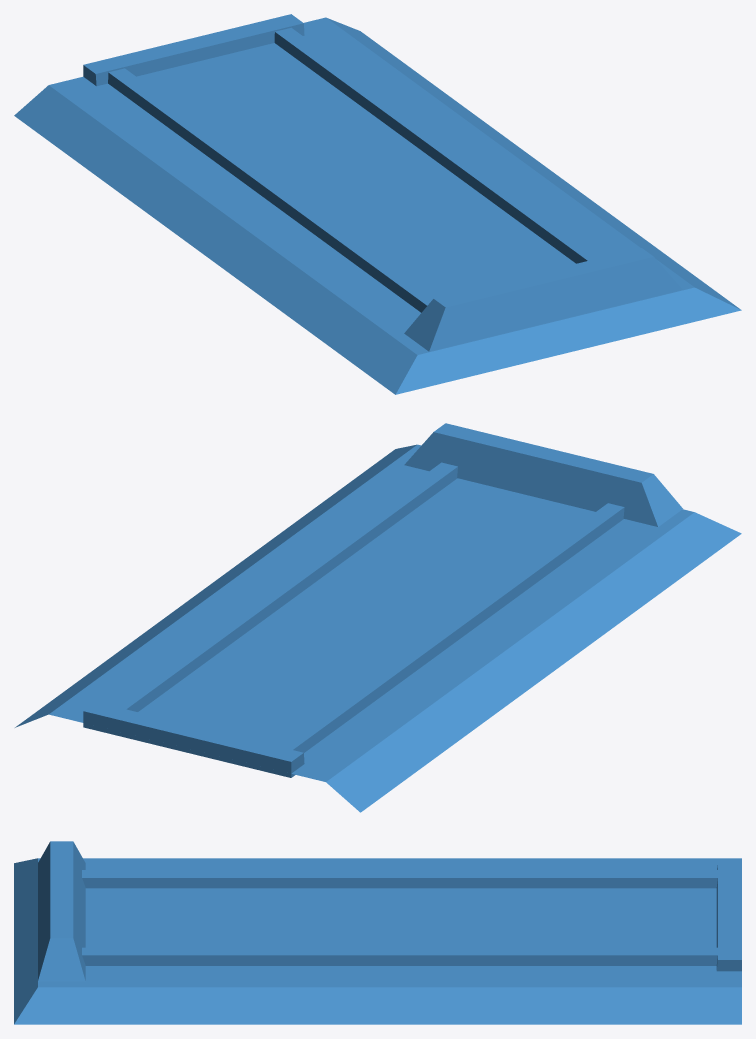
Rendered from TramRails_End.fbx.
The picture shows the model from 3 angles, top to bottom: view 1: azimuth 30°, elevation 25°; view 2: azimuth 150°, elevation 25°; view 3: azimuth 270°, elevation 25°; orthographic projection. The views are drawn at different scales.
Parts seen in each view (by area): view 1: TramRails_End; view 2: TramRails_End; view 3: TramRails_End.
Boxes of the visible parts, bbox=[...] form: TramRails_End: bbox=[14, 14, 741, 394]; TramRails_End: bbox=[15, 423, 741, 812]; TramRails_End: bbox=[14, 841, 741, 1024].
Bounding box in the file's own units: 240 × 37.5 × 458.
